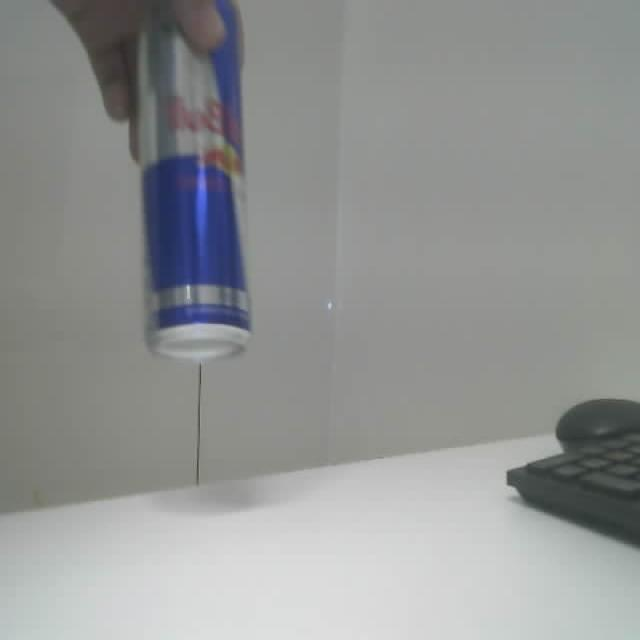redbull can: (138, 0, 249, 361)
